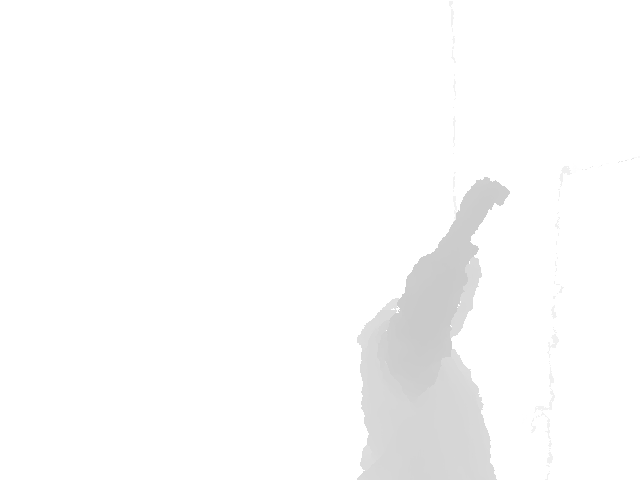hand: (453, 176, 511, 241)
head: (398, 250, 484, 339)
person: (356, 176, 512, 479)
